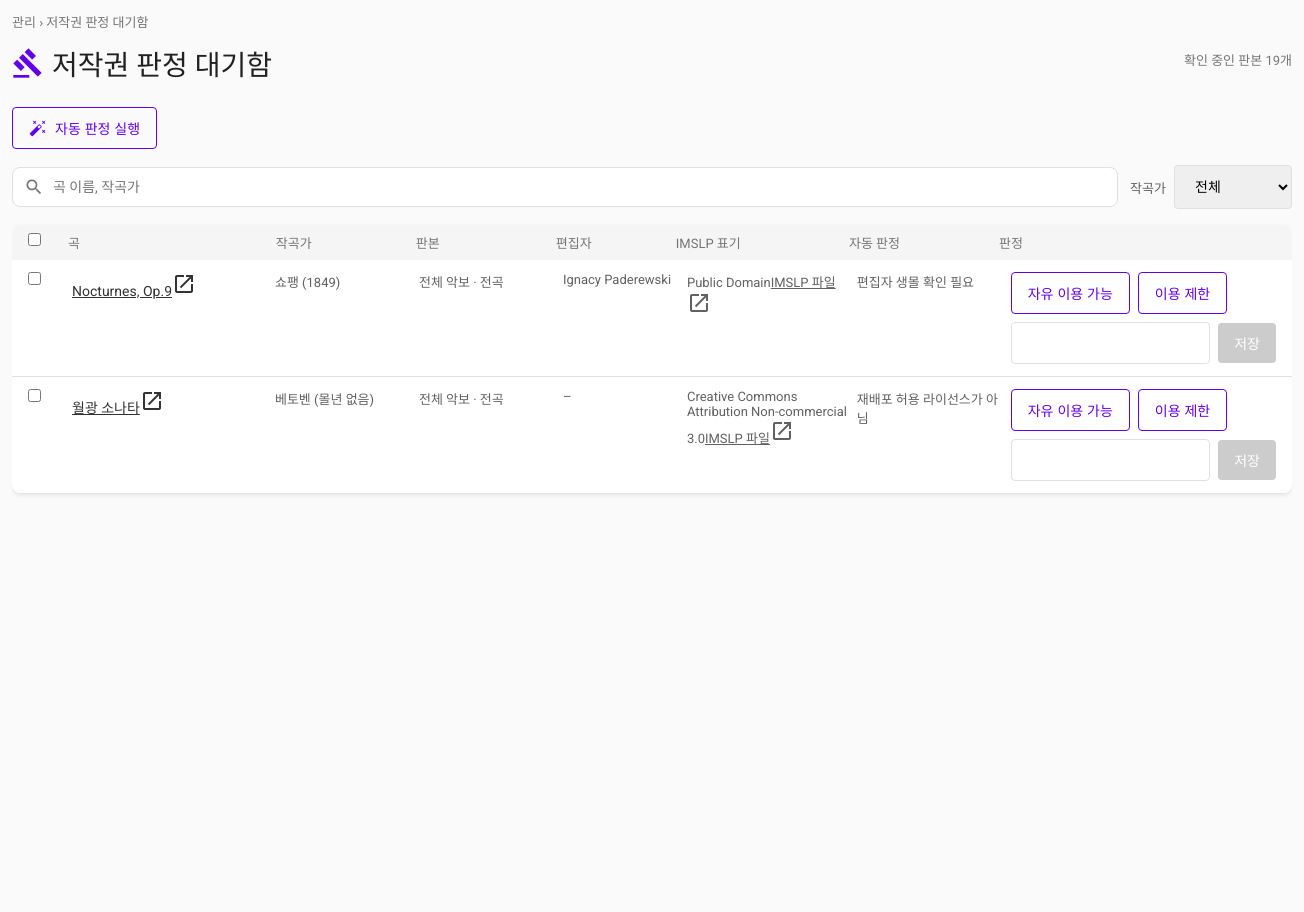
Test: CopyrightPendingPage — 행 판정 › 저장하면 PUT 후 그 행이 사라지고 '판정했어요' + 건수가 하나 준다
Click the button "자유 이용 가능" next to "편집자 생몰 확인 필요". click: x=1070, y=293
box: [1011,272,1130,314]
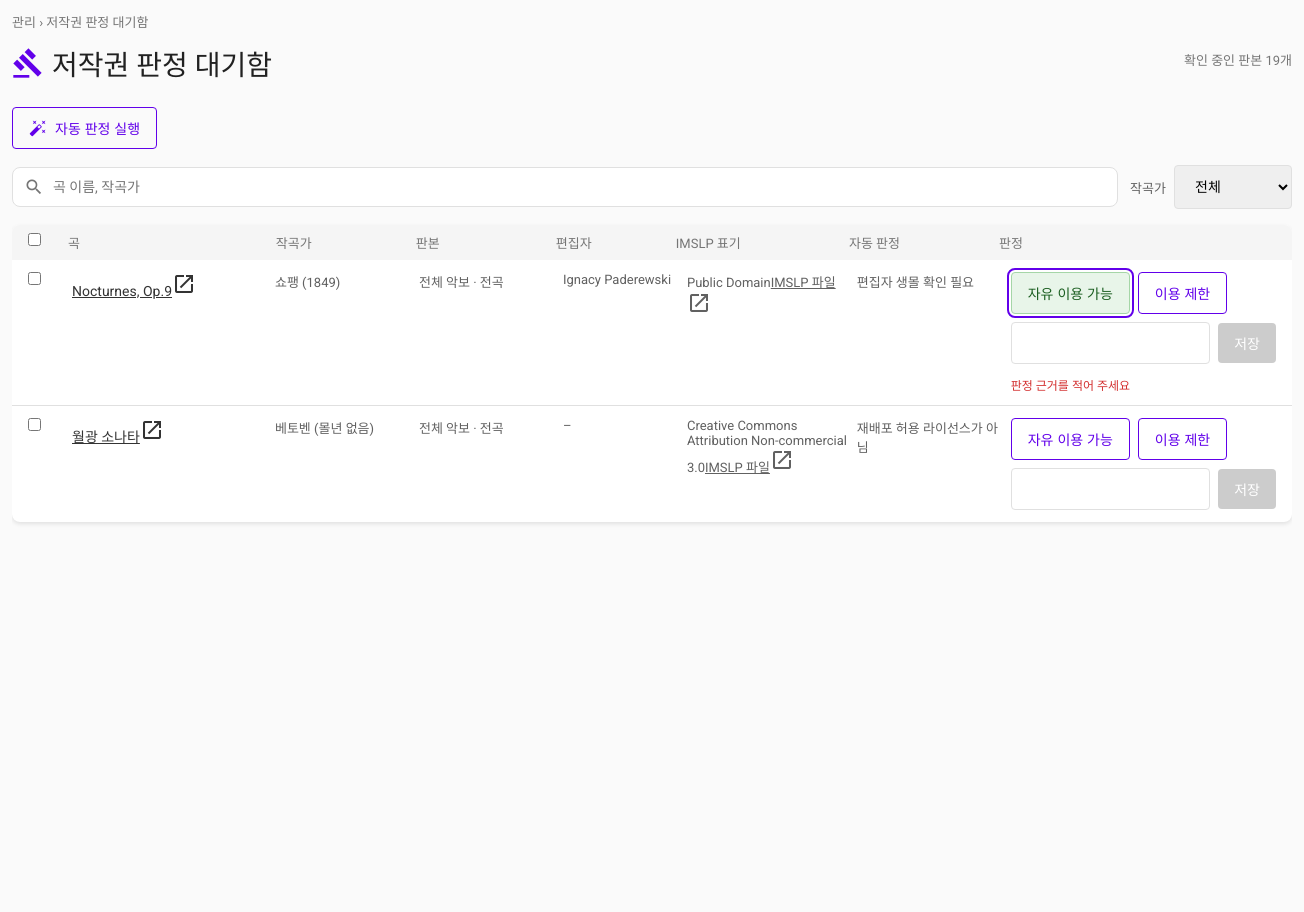
Type "작곡가 1849 사망, 편집자 1941 사망 → 경과" into the field named "판정 메모" below "Public Domain". click: x=1110, y=343
box: [1011,322,1210,364]
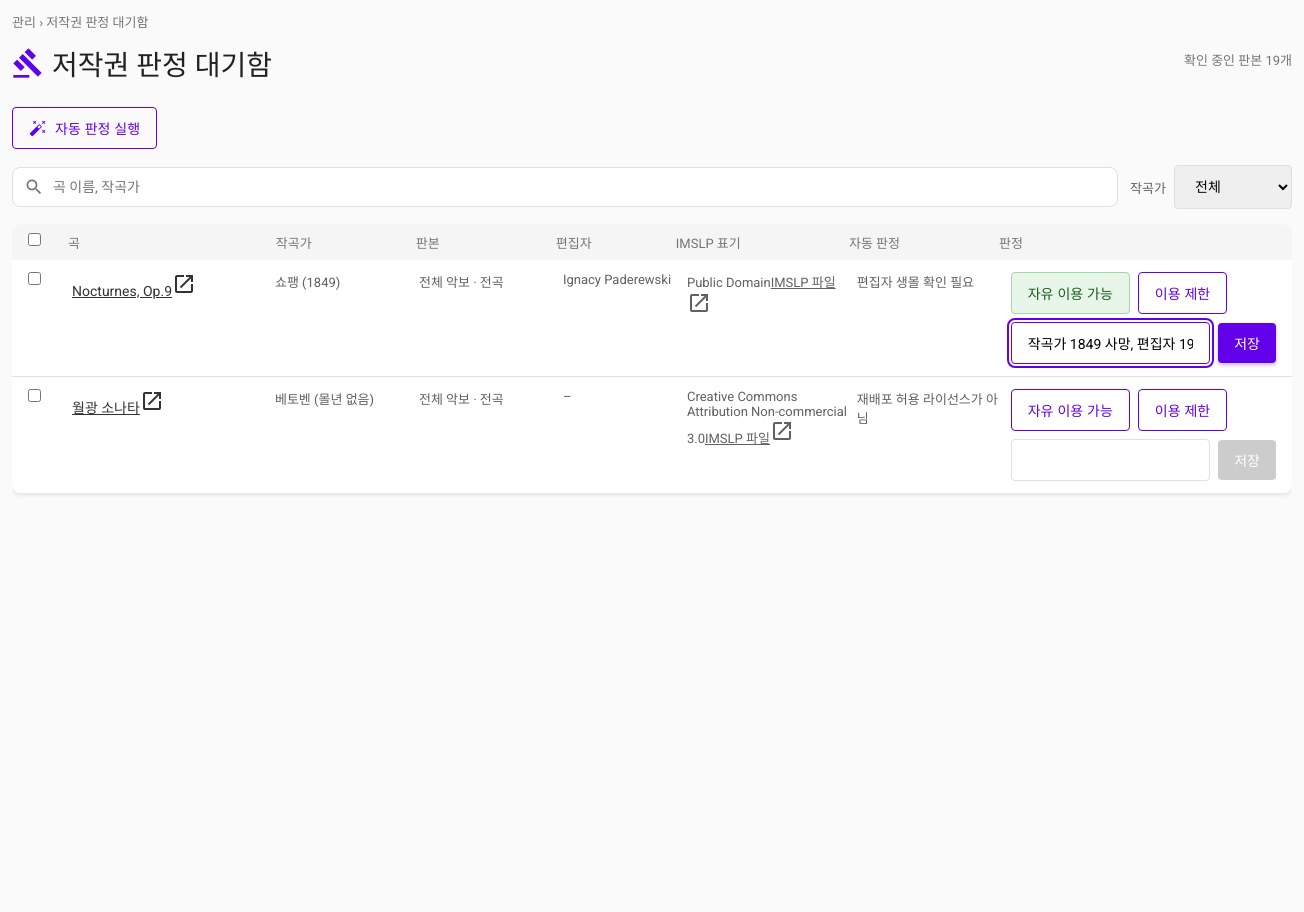
Click the button "저장" below "편집자 생몰 확인 필요". click: x=1247, y=343
box: [1218,323,1276,363]
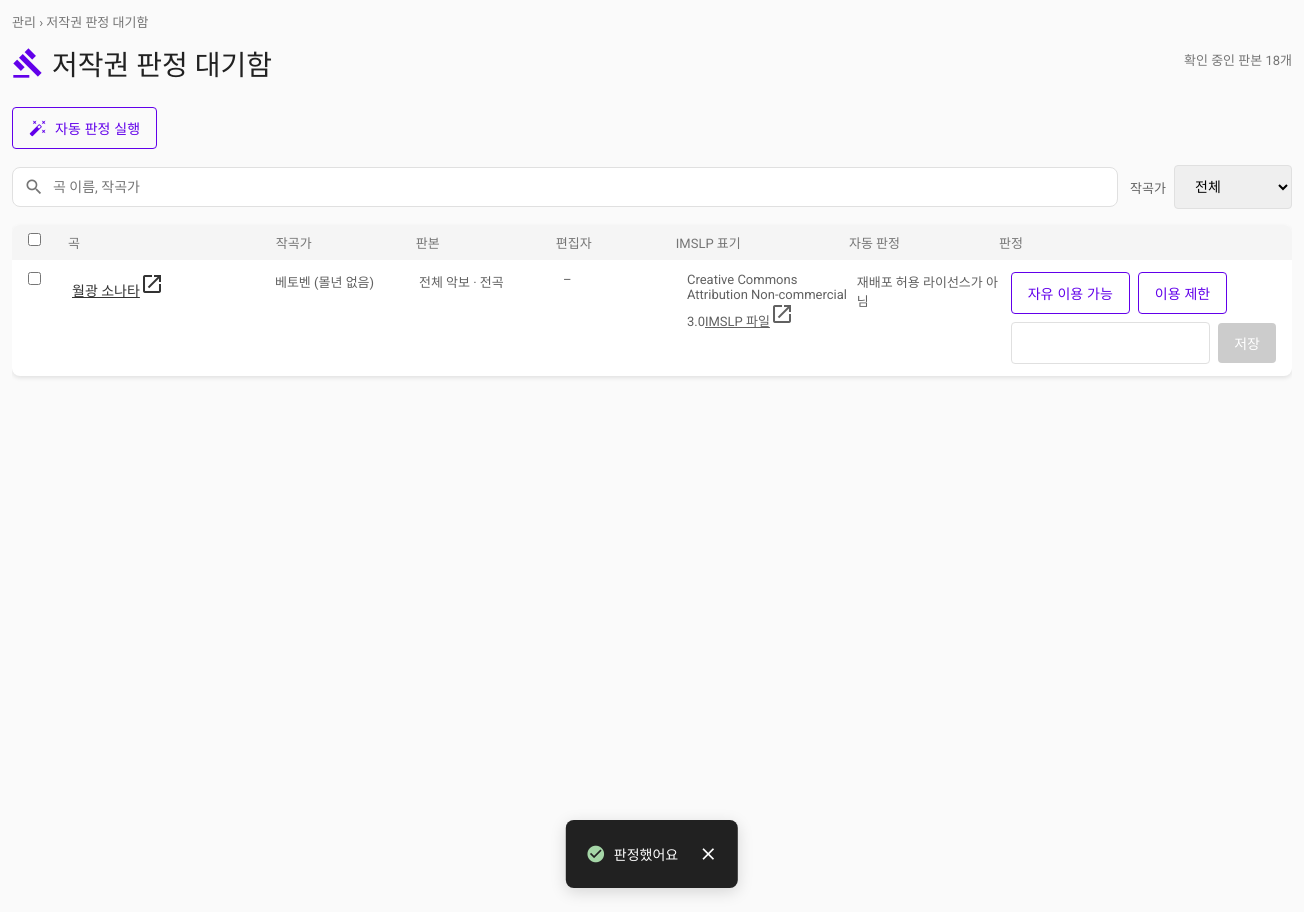
expect the element with test id "pending-row-305" is gone: met
expect the text "판정했어요" is shown: met, box [614,844,678,864]
expect the text "확인 중인 판본 18개" is shown: met, box [1184,50,1292,68]
